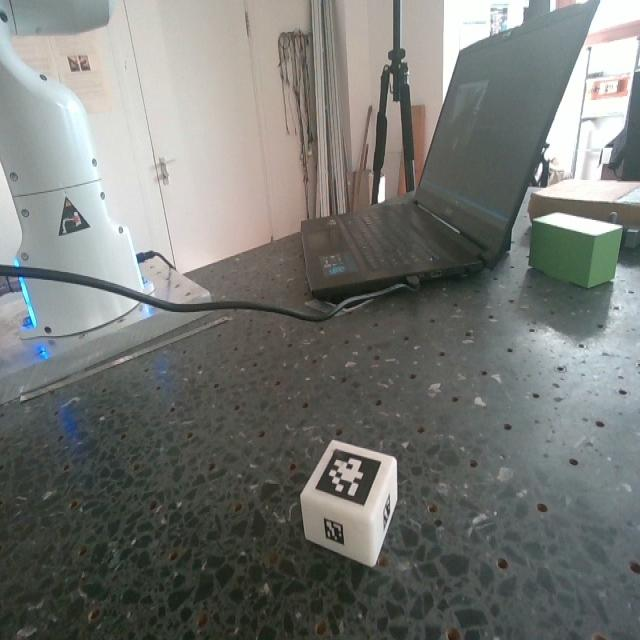Cube: (300, 435, 404, 564)
